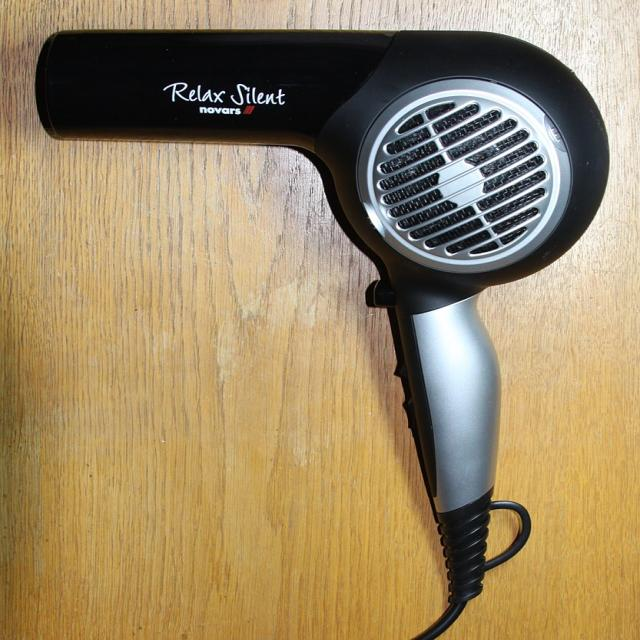dryer: (33, 29, 611, 605)
